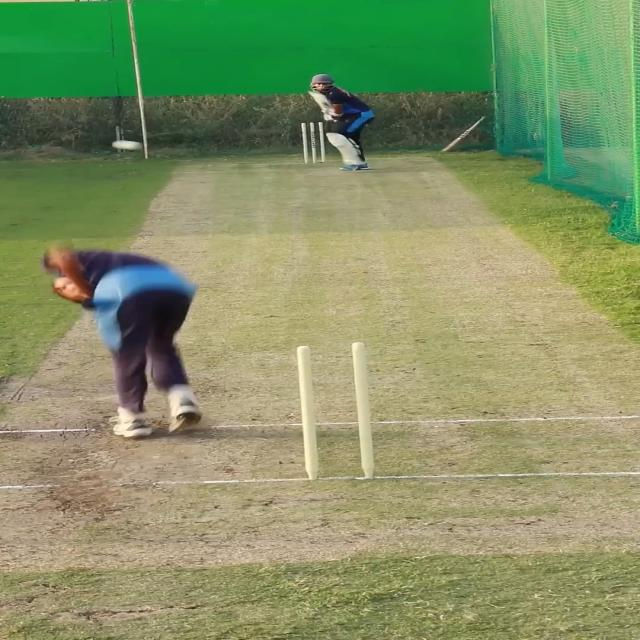ball: (110, 138, 142, 153)
stump: (299, 342, 381, 481), (300, 122, 328, 164)
